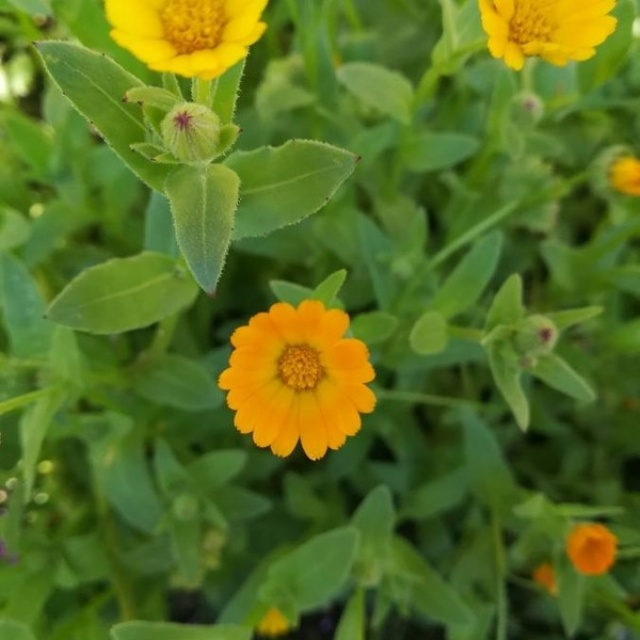obstacle: (20, 7, 511, 610)
